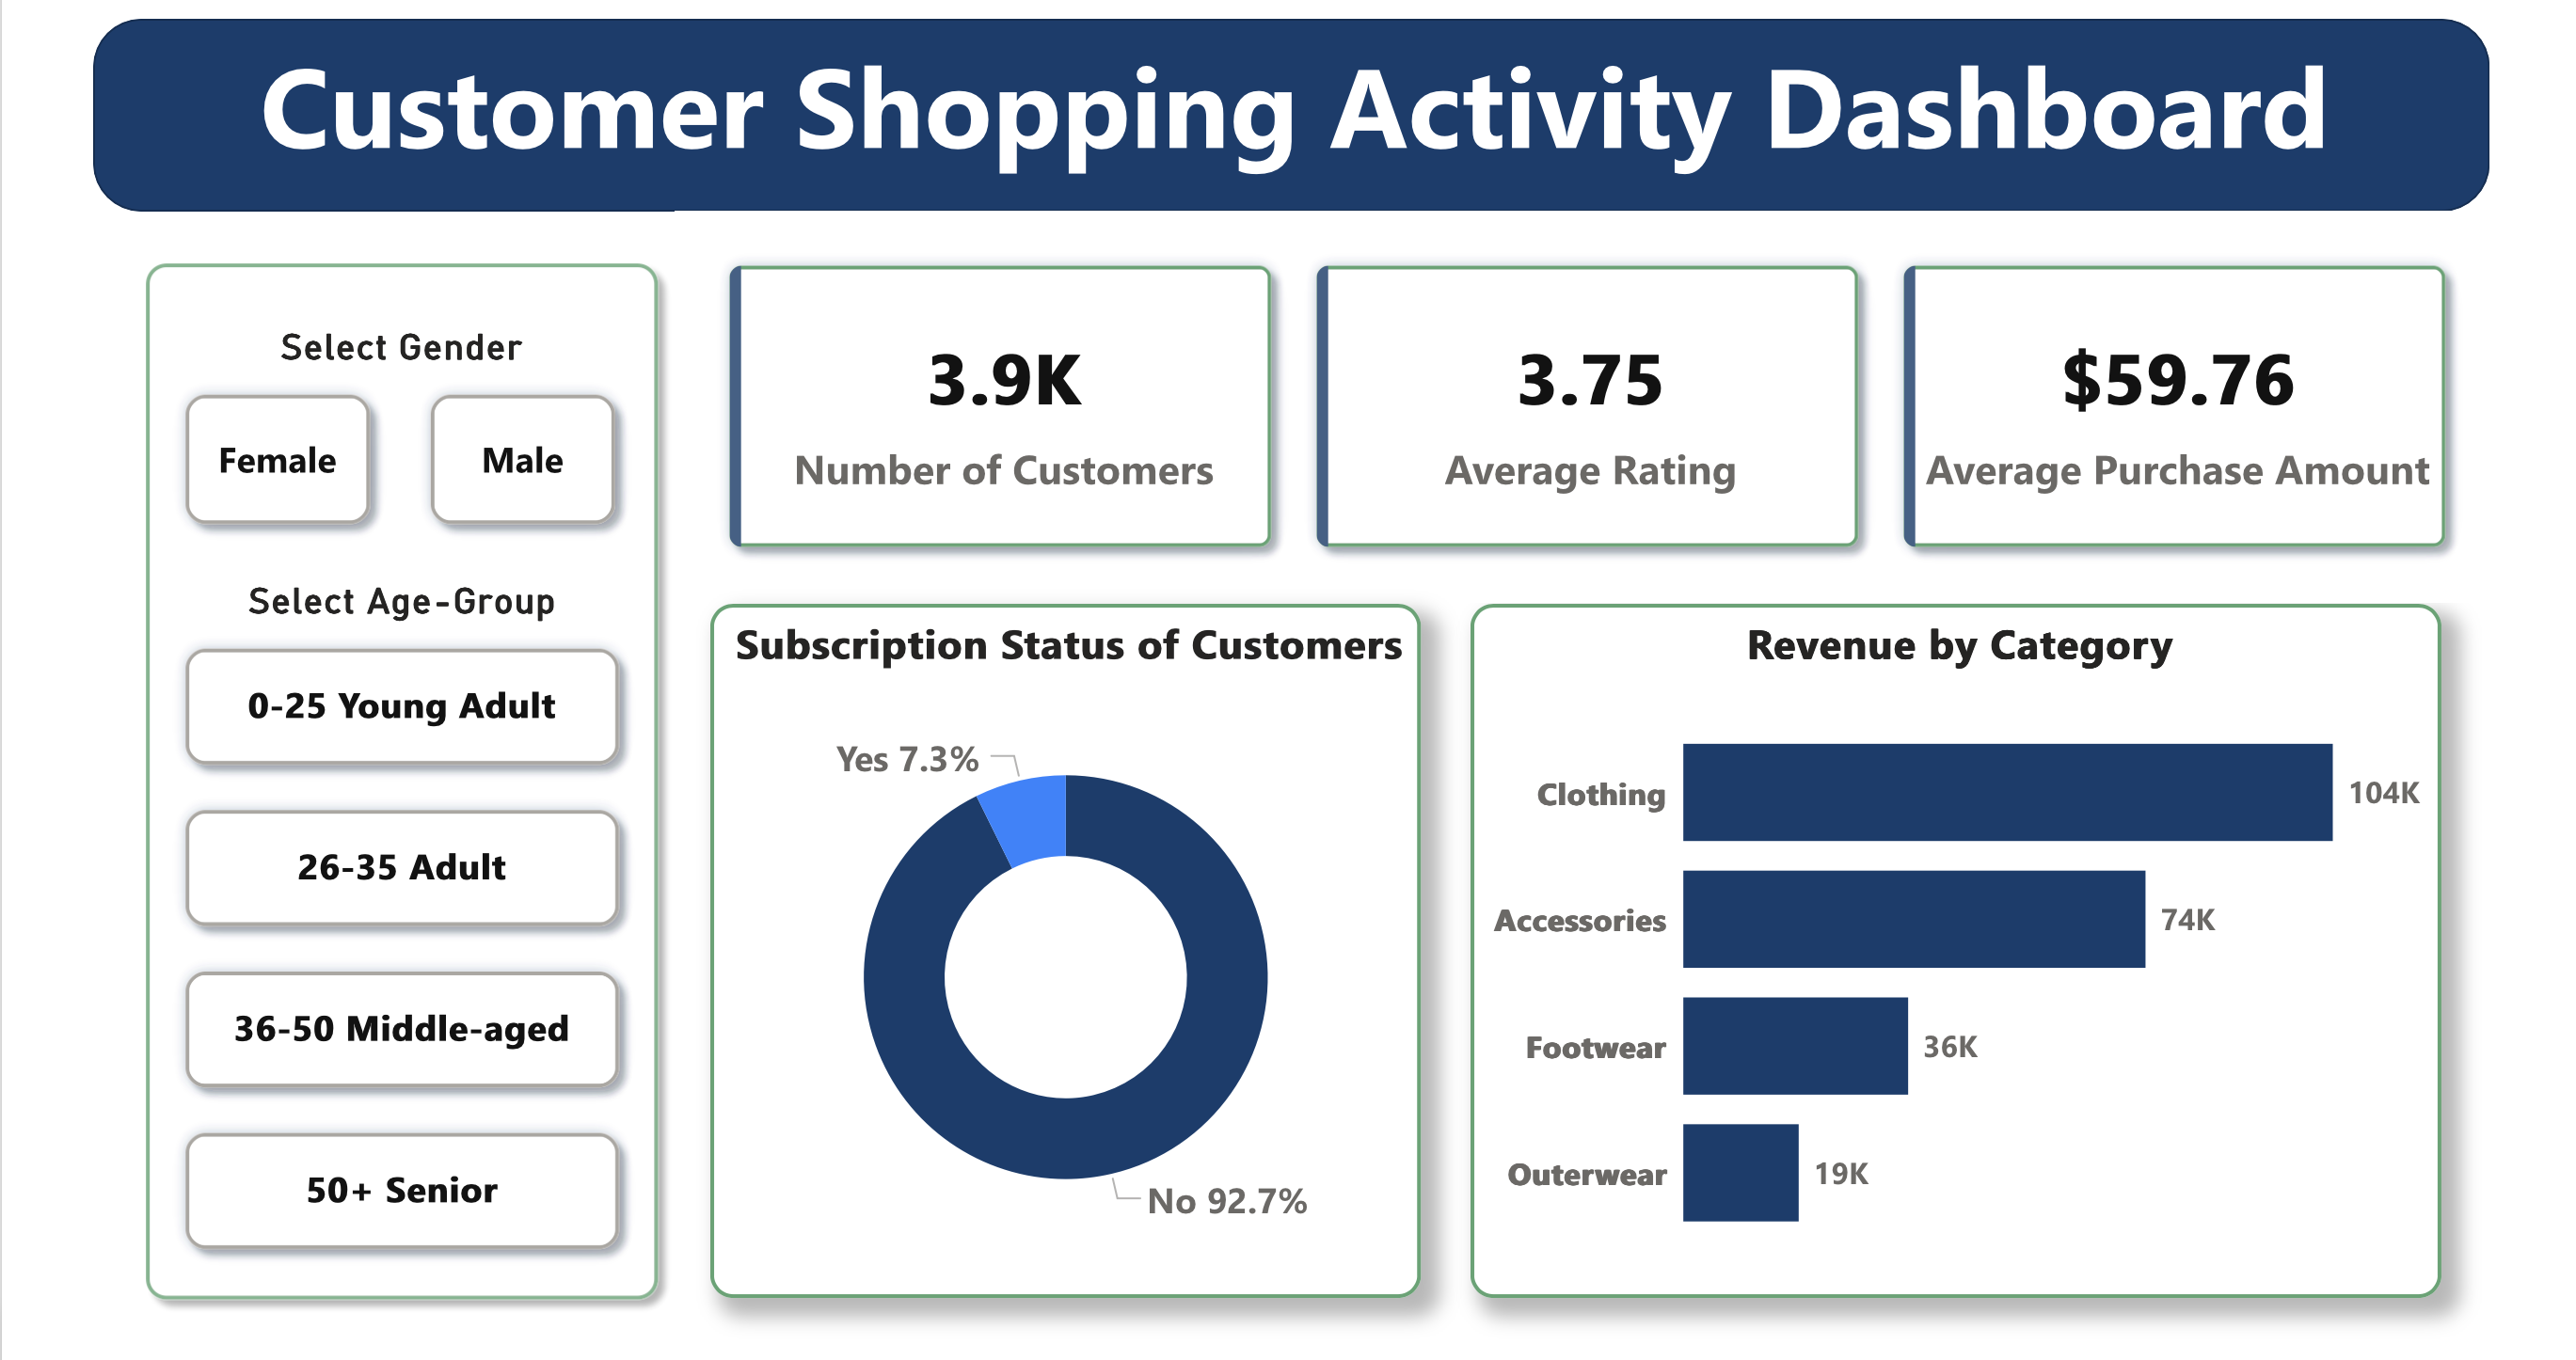

What the dashboard file says about the page in this screenshot:
{"tool":"powerbi","page":{"name":"Page 1","canvas":[1280,720],"ordinal":0},"visuals":[{"type":"shape","box":[10.1,10.1,1269.9,101.1],"z":0},{"type":"textbox","box":[28.9,10.1,1228,91],"z":1000},{"type":"clusteredBarChart","title":"Revenue by Category","fields":{"Category":["customer_cleaned_data.category"],"Y":["Sum(customer_cleaned_data.purchase_amount)"]},"box":[735.3,317.8,511.4,365.5],"z":2000},{"type":"cardVisual","fields":{"Data":["customer_cleaned_data.Number of Customers","customer_cleaned_data.Average Rating","customer_cleaned_data.Average Purchase Amount"]},"box":[316.4,111.2,963.6,206.6],"z":3000},{"type":"donutChart","title":"Subscription Status of Customers","fields":{"Category":["customer_cleaned_data.subscription_status"],"Y":["Sum(customer_cleaned_data.customer_id)"]},"box":[335.2,317.8,374.2,365.5],"z":4000},{"type":"shape","box":[28.9,130,287.5,563.4],"z":5000},{"type":"advancedSlicerVisual","title":"Select Age-Group","fields":{"Values":["customer_cleaned_data.age_group"]},"box":[41.4,306.8,262,368.4],"z":6000},{"type":"advancedSlicerVisual","title":"Gender","fields":{"Values":["customer_cleaned_data.gender"]},"box":[41.9,173.4,261.5,119.9],"z":6001}]}

Visuals, with their boxes on the page's 1280x720 design canvas (x1, y1, x2, y2). These are canvas units, not pixel positions in the 2576x1360 screenshot, which may show the page scaled, cropped or inside an application window:
shape: bbox=[10, 10, 1280, 111]
textbox: bbox=[29, 10, 1257, 101]
"Revenue by Category" clusteredBarChart: bbox=[735, 318, 1247, 683]
cardVisual - customer_cleaned_data.Number of Customers x customer_cleaned_data.Average Rating: bbox=[316, 111, 1280, 318]
"Subscription Status of Customers" donutChart: bbox=[335, 318, 709, 683]
shape: bbox=[29, 130, 316, 693]
"Select Age-Group" advancedSlicerVisual: bbox=[41, 307, 303, 675]
"Gender" advancedSlicerVisual: bbox=[42, 173, 303, 293]
